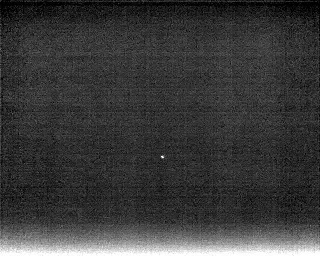BIRD: (157, 152, 167, 163)
